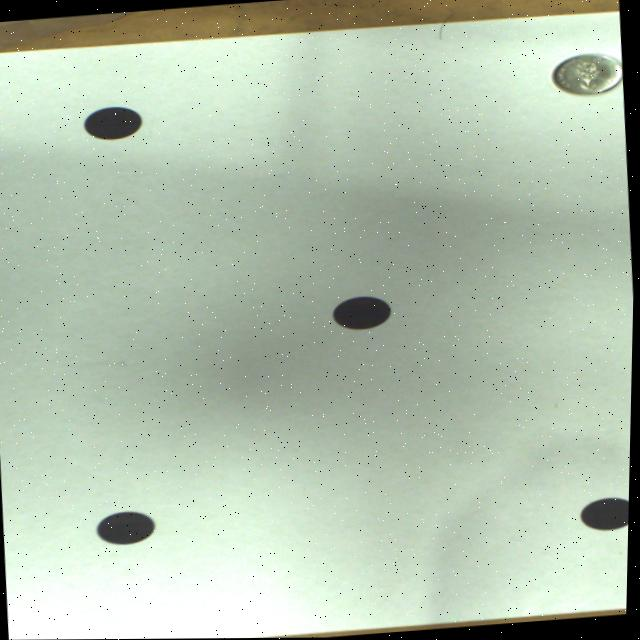space: (84, 106, 142, 140), (333, 297, 391, 330), (98, 512, 156, 544), (581, 498, 631, 531)
tail1bath: (553, 54, 622, 96)
